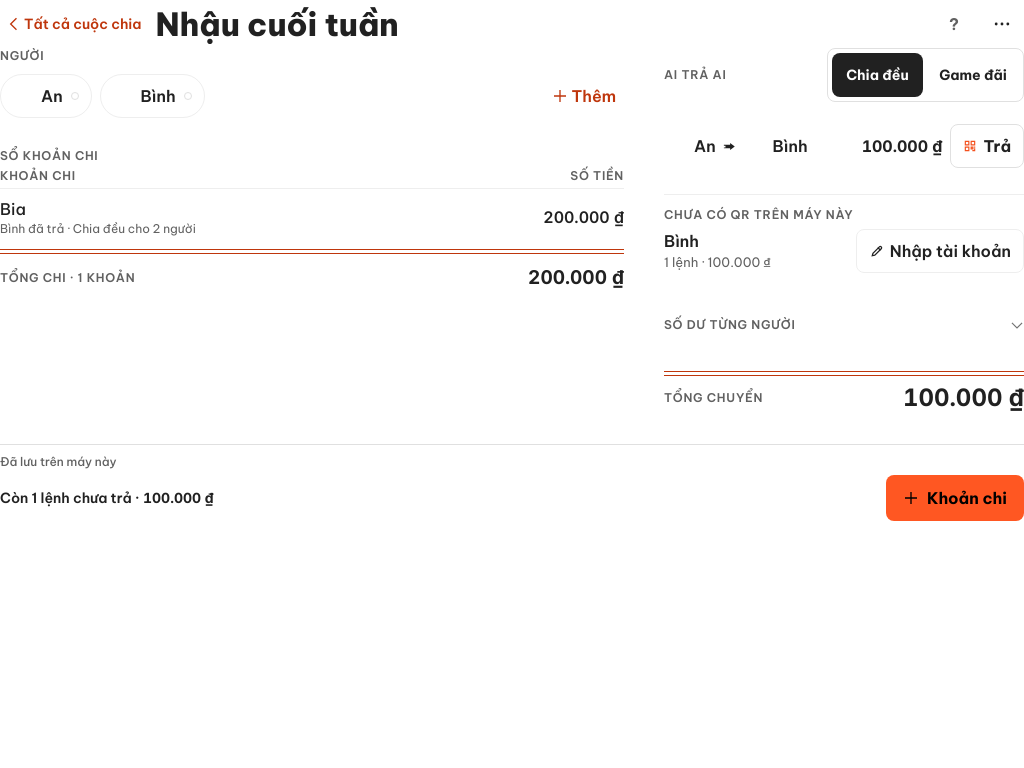
Scenario: Pha 1 — D11: danh sách thiếu-QR gọn (thay khối «Nhắn xin QR» của Finding F) › (vi) Bình thiếu QR: danh sách gọn có đúng 1 nút «Nhập tài khoản» cho Bình; KHÔNG còn «Nhắn xin QR»/copy lời nhắn
Click the button "Nhập tài khoản" at {"x": 940, "y": 251}, box [856, 229, 1023, 273]
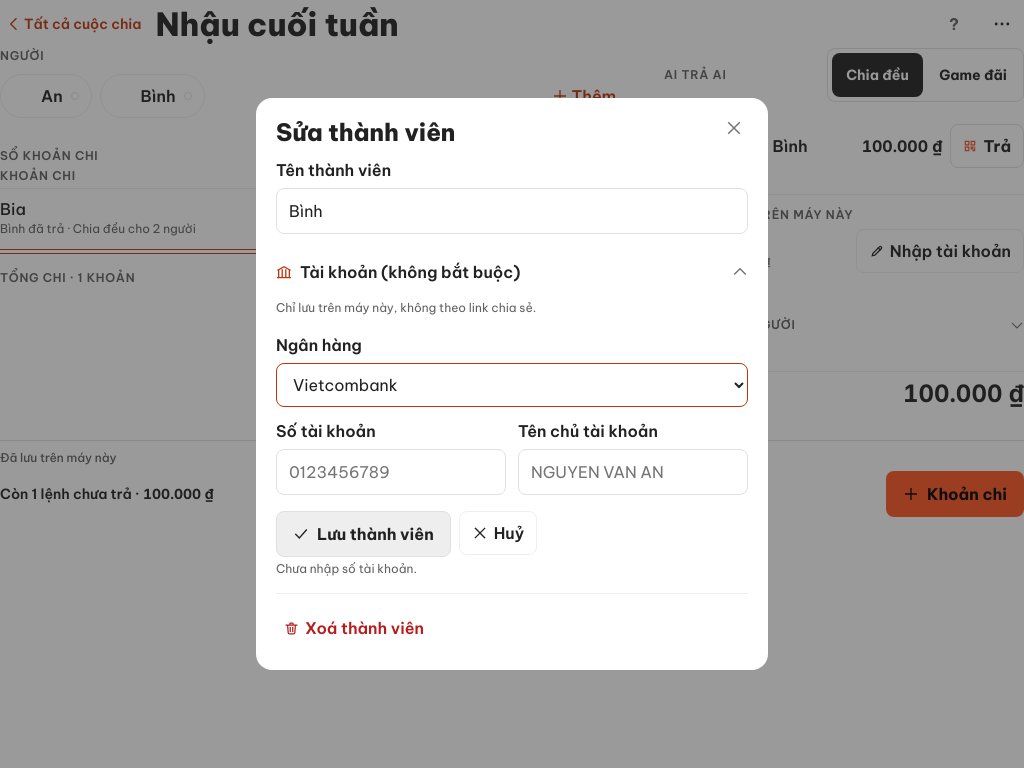
Now the dialog shows "Sửa thành viên", box [276, 117, 455, 147]
